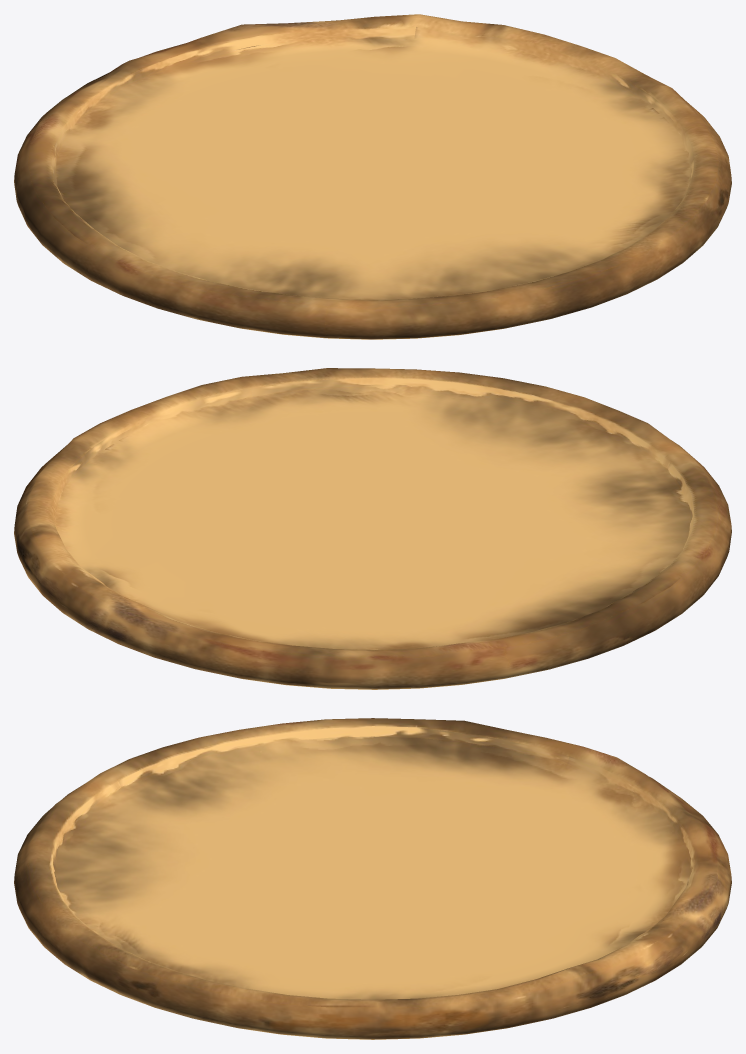
The model's file is dough.glb.
3 views of the same model, one above another, from view 1: azimuth 30°, elevation 25°; view 2: azimuth 150°, elevation 25°; view 3: azimuth 270°, elevation 25° (orthographic).
Visible parts, largest first — view 1: Pizza Dough; view 2: Pizza Dough; view 3: Pizza Dough.
Part boxes in pixels (left/top/right/bottom): Pizza Dough: left=14, top=14, right=731, bottom=339; Pizza Dough: left=14, top=368, right=731, bottom=689; Pizza Dough: left=14, top=718, right=731, bottom=1039.
Size of the model in its own units: 0.2345 by 0.0132 by 0.2345.
Materials: 1 (1 with a texture image).
